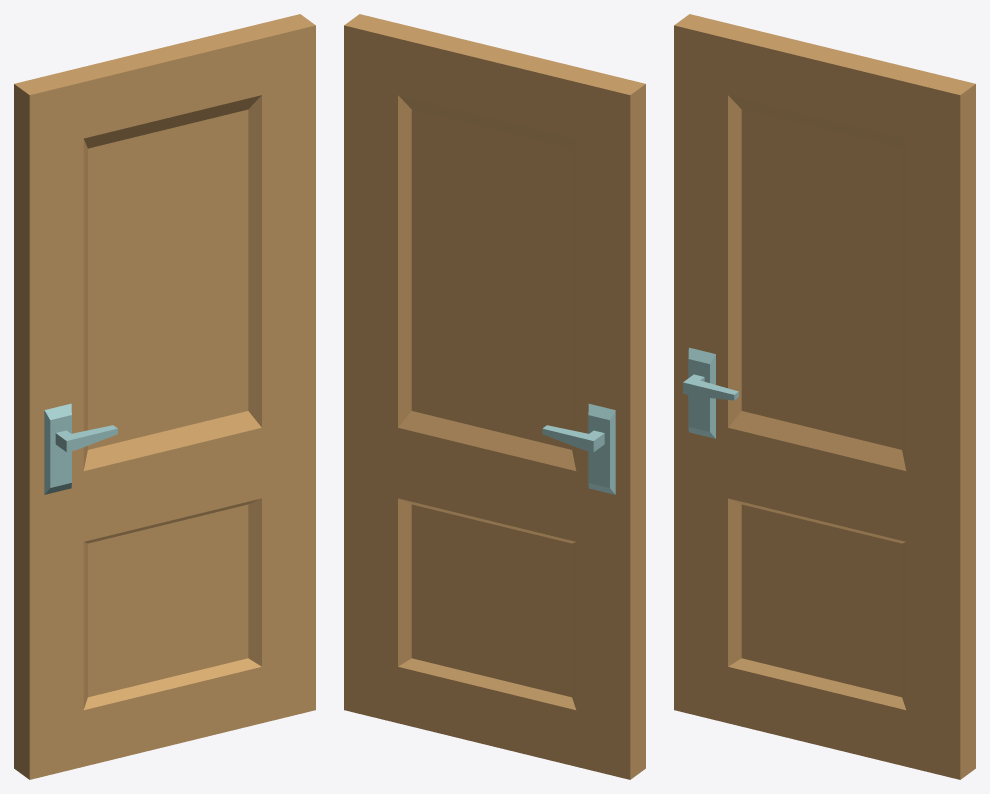
The model's file is door-leaf.glb.
The picture shows the model from 3 angles, left to right: view 1: azimuth 30°, elevation 25°; view 2: azimuth 150°, elevation 25°; view 3: azimuth 330°, elevation 25°; orthographic projection.
Parts seen in each view (by area): view 1: doorway; view 2: doorway; view 3: doorway.
Part boxes in pixels (<box>): doorway: <box>14,14,315,779</box>; doorway: <box>344,14,645,779</box>; doorway: <box>674,14,975,779</box>.
Bounding box in the file's own units: 4.29 × 9.81 × 1.13.
